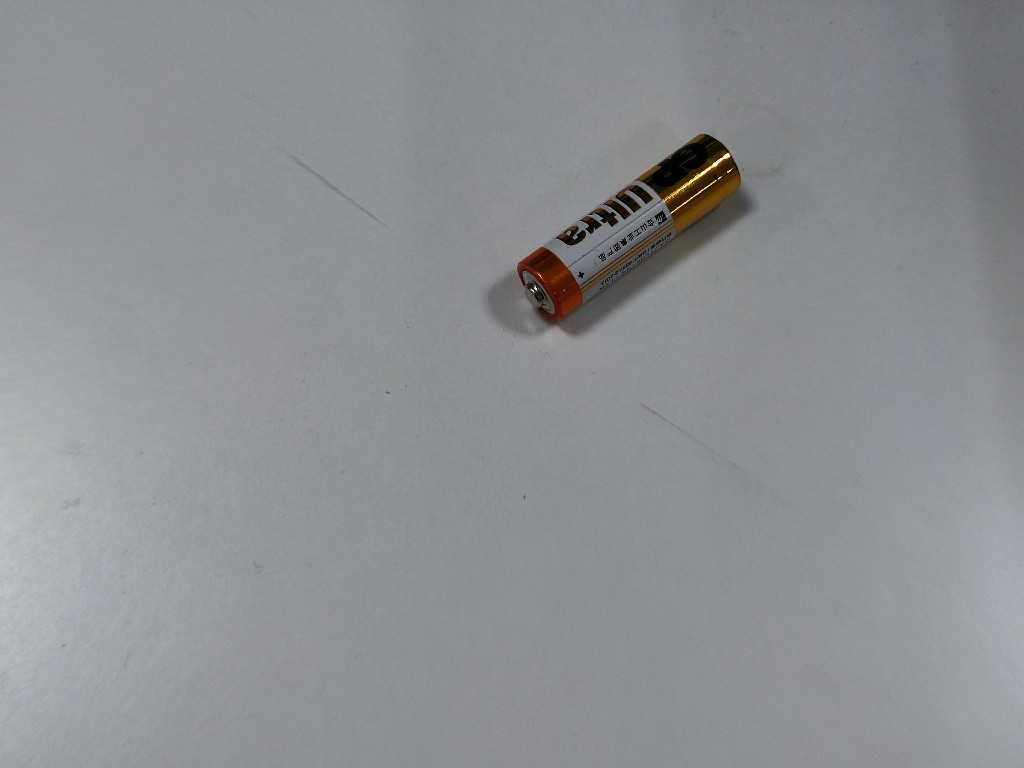charge: (515, 128, 745, 325)
